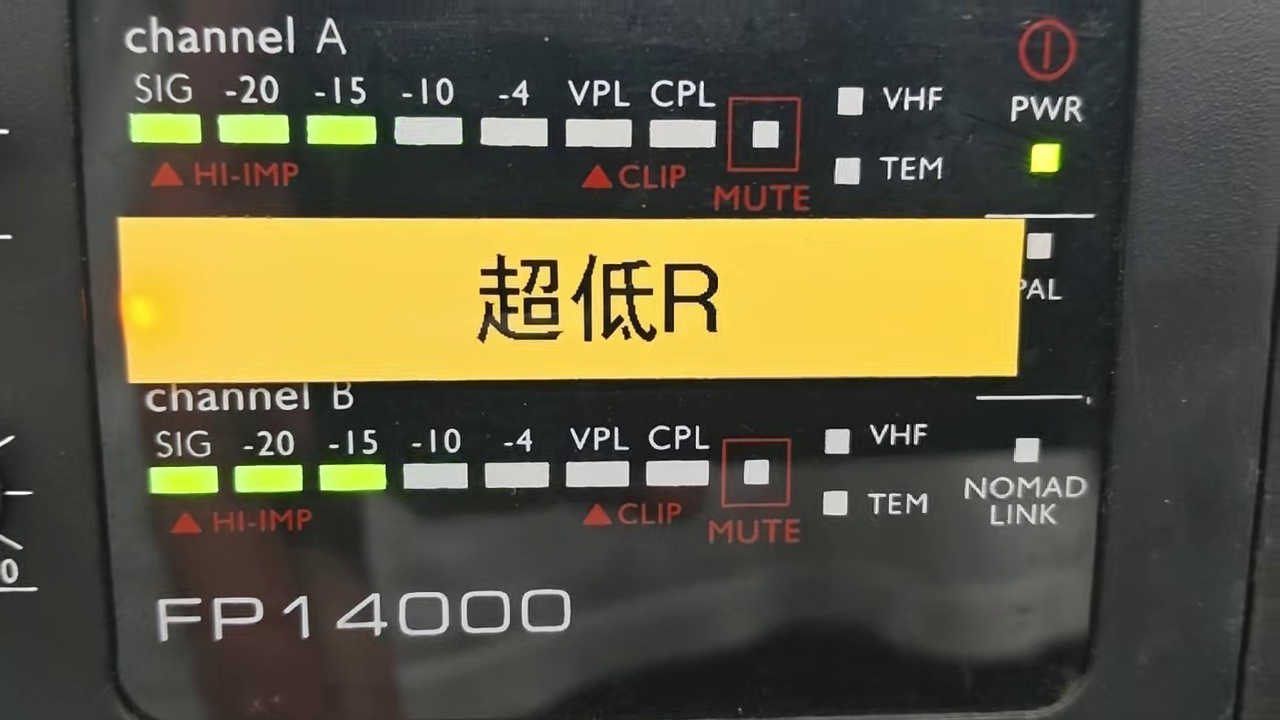FP_CPL: (642, 63, 722, 165), (640, 420, 714, 497)
FP_PWR: (998, 83, 1095, 186)
FP_PWR_area: (985, 9, 1100, 215)
FP_SIG_area: (132, 58, 952, 220), (136, 415, 948, 558)
FP_VPL: (561, 66, 641, 164), (562, 420, 634, 498)
